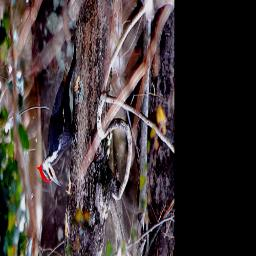Woodpecker: (34, 41, 77, 188)
